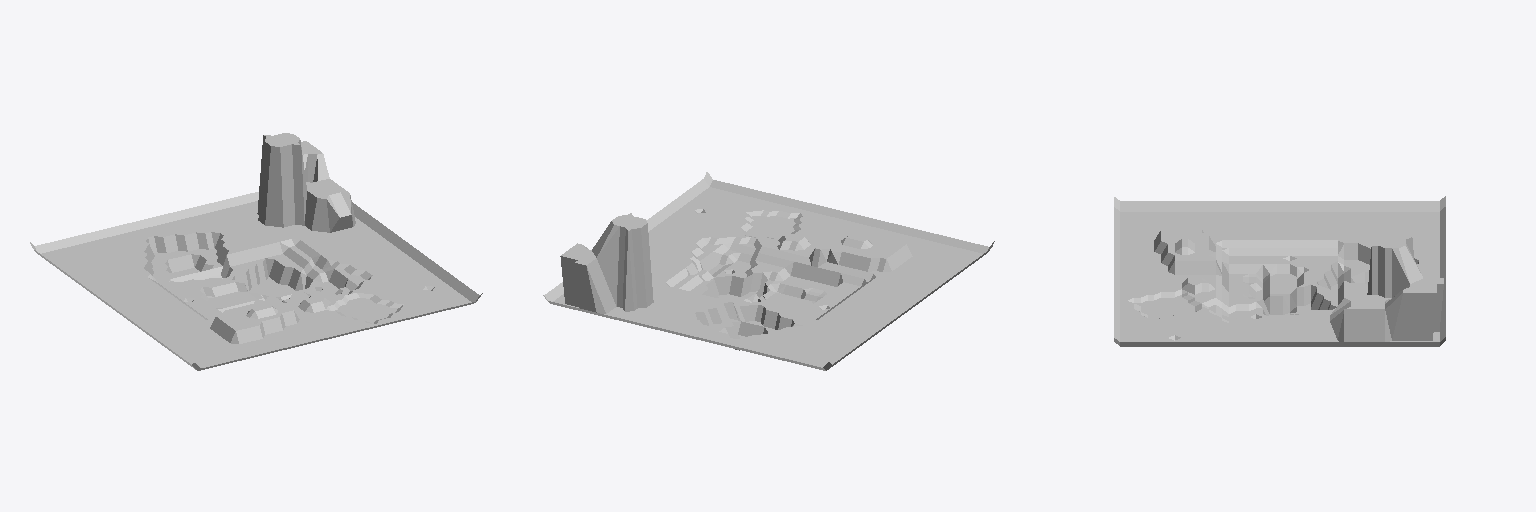
Rendered from Terrain2.obj.
3 views of the same model, side by side, from view 1: azimuth 30°, elevation 25°; view 2: azimuth 150°, elevation 25°; view 3: azimuth 270°, elevation 25° (orthographic).
Visible parts, largest first — view 1: Grid; view 2: Grid; view 3: Grid.
Boxes of the visible parts, <box> form: Grid: <box>30,133,482,370</box>; Grid: <box>543,172,994,370</box>; Grid: <box>1114,196,1445,346</box>.
Bounding box in the file's own units: 20 × 7.29 × 20.